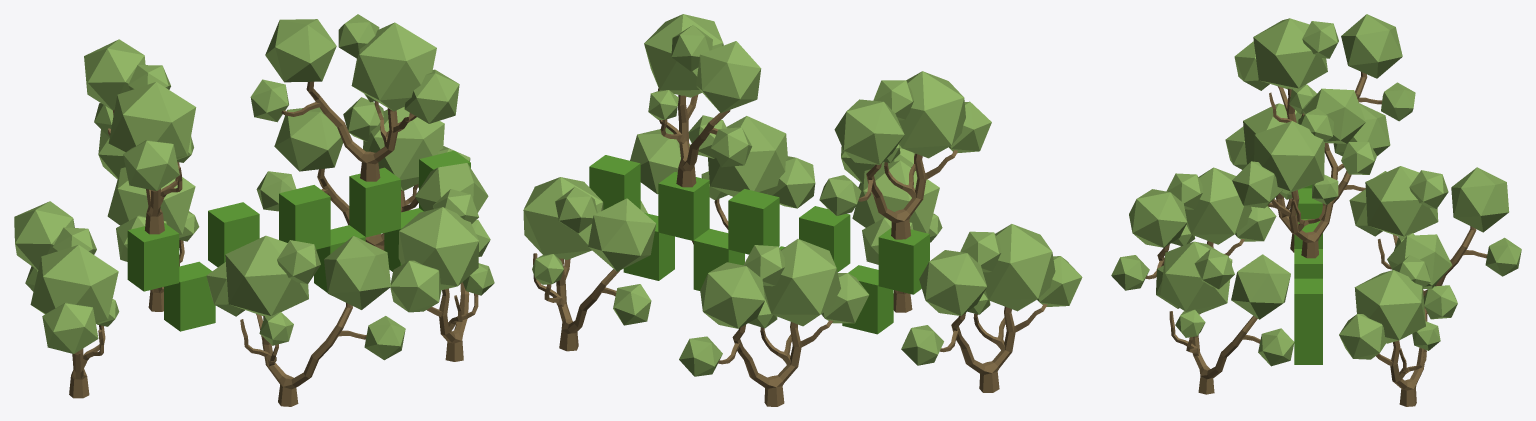
The model's file is demoscene.glb.
3 views of the same model, side by side, from view 1: azimuth 30°, elevation 25°; view 2: azimuth 150°, elevation 25°; view 3: azimuth 270°, elevation 25° (orthographic). The views are drawn at different scales.
Visible parts, largest first — view 1: Tree_lp_11.004, Tree_lp_11.006, Tree_lp_11.002, Tree_lp_11.003, Tree_lp_11.007, Tree_lp_11.005, Tree_lp_11.001, Cube.005, Cube, Cube.002, Cube.008, Cube.004 (+3 smaller); view 2: Tree_lp_11.001, Tree_lp_11.007, Tree_lp_11.003, Tree_lp_11.005, Tree_lp_11.004, Tree_lp_11.002, Tree_lp_11.006, Cube, Cube.002, Cube.005, Cube.003, Cube.004 (+3 smaller); view 3: Tree_lp_11.004, Tree_lp_11.005, Tree_lp_11.003, Tree_lp_11.002, Tree_lp_11.001, Tree_lp_11.006, Tree_lp_11.007, Cube.003, Cube.001, Cube, Cube.004.
Part boxes in pixels (x1=…): Tree_lp_11.004: x1=250, y1=14, x2=459, y2=181; Tree_lp_11.006: x1=206, y1=235, x2=405, y2=406; Tree_lp_11.002: x1=390, y1=163, x2=494, y2=361; Tree_lp_11.003: x1=84, y1=39, x2=196, y2=234; Tree_lp_11.007: x1=14, y1=201, x2=119, y2=398; Tree_lp_11.005: x1=256, y1=97, x2=470, y2=250; Tree_lp_11.001: x1=98, y1=129, x2=199, y2=311; Cube.005: x1=127, y1=223, x2=179, y2=291; Cube: x1=349, y1=167, x2=400, y2=237; Cube.002: x1=279, y1=185, x2=330, y2=249; Cube.008: x1=164, y1=261, x2=215, y2=331; Cube.004: x1=208, y1=202, x2=259, y2=267; Tree_lp_11.001: x1=679, y1=239, x2=868, y2=406; Tree_lp_11.007: x1=901, y1=224, x2=1082, y2=392; Tree_lp_11.003: x1=819, y1=71, x2=991, y2=239; Tree_lp_11.005: x1=523, y1=177, x2=656, y2=351; Tree_lp_11.004: x1=644, y1=14, x2=761, y2=187; Tree_lp_11.002: x1=630, y1=115, x2=815, y2=244; Tree_lp_11.006: x1=841, y1=145, x2=942, y2=312; Cube: x1=658, y1=172, x2=709, y2=240; Cube.002: x1=728, y1=189, x2=779, y2=254; Cube.005: x1=878, y1=228, x2=929, y2=294; Cube.003: x1=589, y1=155, x2=640, y2=209; Cube.004: x1=799, y1=206, x2=850, y2=272; Tree_lp_11.004: x1=1232, y1=88, x2=1376, y2=258; Tree_lp_11.005: x1=1339, y1=234, x2=1457, y2=406; Tree_lp_11.003: x1=1234, y1=14, x2=1415, y2=122; Tree_lp_11.002: x1=1156, y1=241, x2=1294, y2=394; Tree_lp_11.001: x1=1349, y1=166, x2=1521, y2=313; Tree_lp_11.006: x1=1111, y1=167, x2=1276, y2=314; Tree_lp_11.007: x1=1225, y1=103, x2=1390, y2=252; Cube.003: x1=1294, y1=278, x2=1322, y2=337; Cube.001: x1=1294, y1=337, x2=1322, y2=364; Cube: x1=1294, y1=249, x2=1322, y2=278; Cube.004: x1=1296, y1=188, x2=1322, y2=218.
Size of the model in its own units: 412 by 247 by 344.
